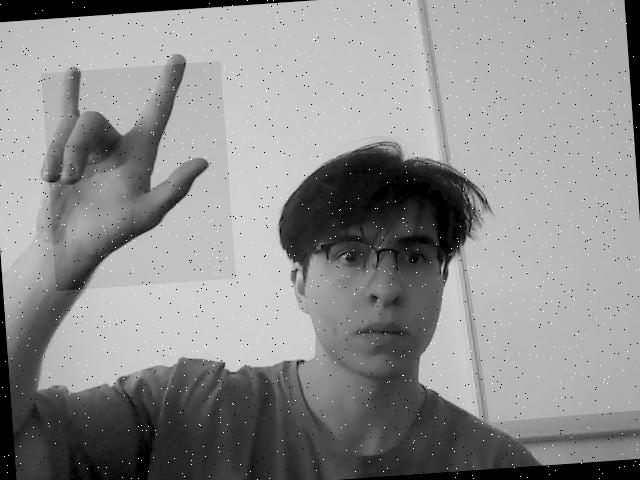I_Love_You: (41, 60, 236, 290)
